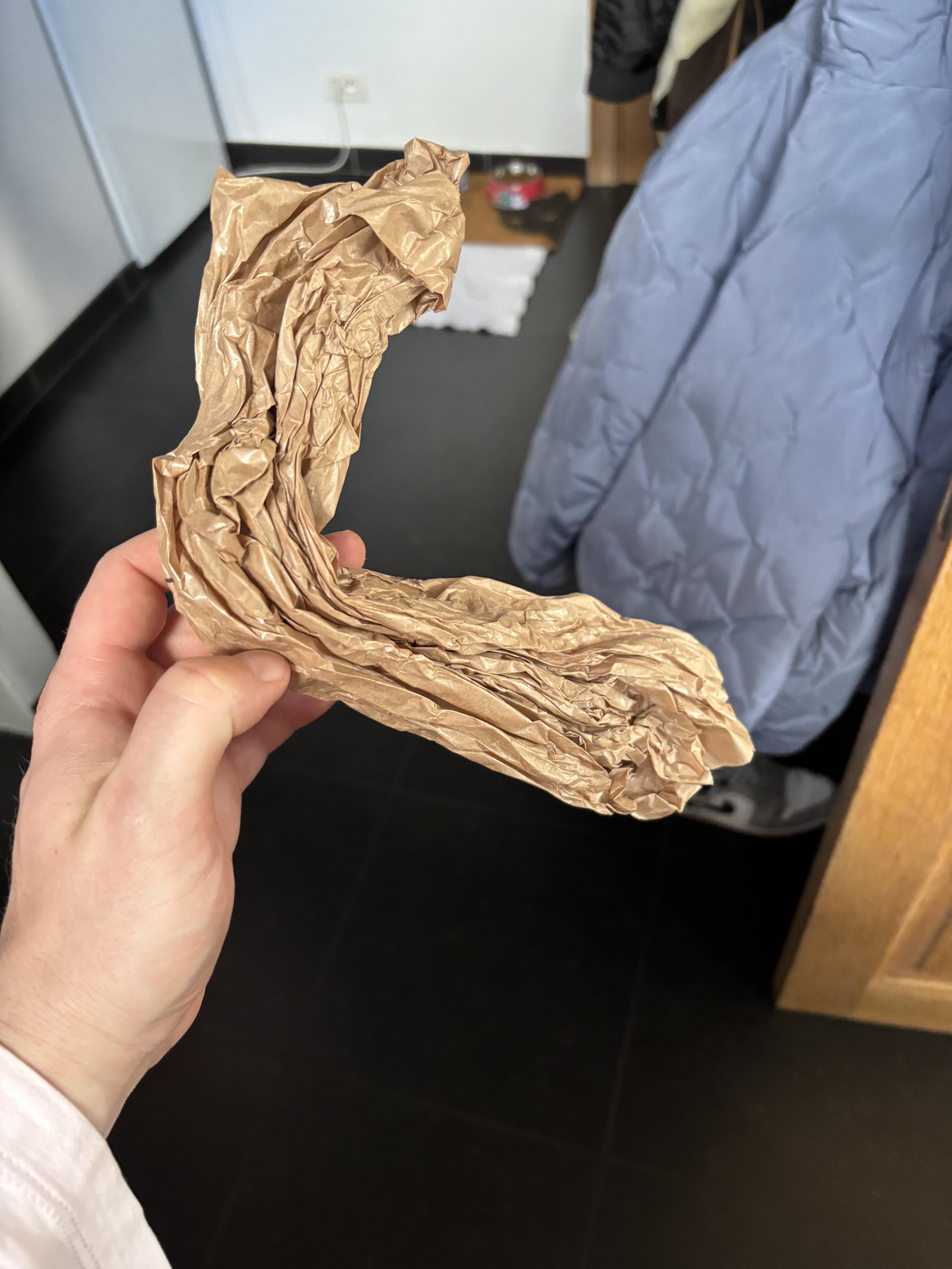Paper: (147, 131, 753, 823)
